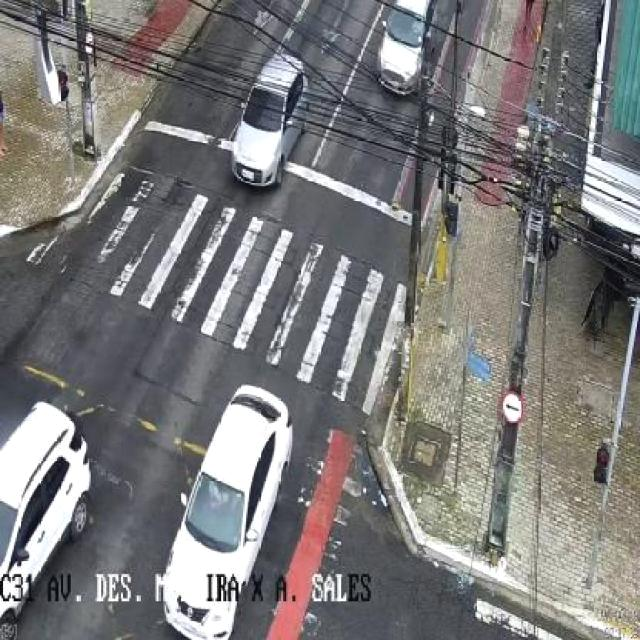Car: (148, 375, 304, 640), (0, 389, 101, 640), (219, 52, 311, 210), (372, 0, 445, 94)
